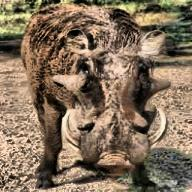boar: (19, 1, 170, 189)
